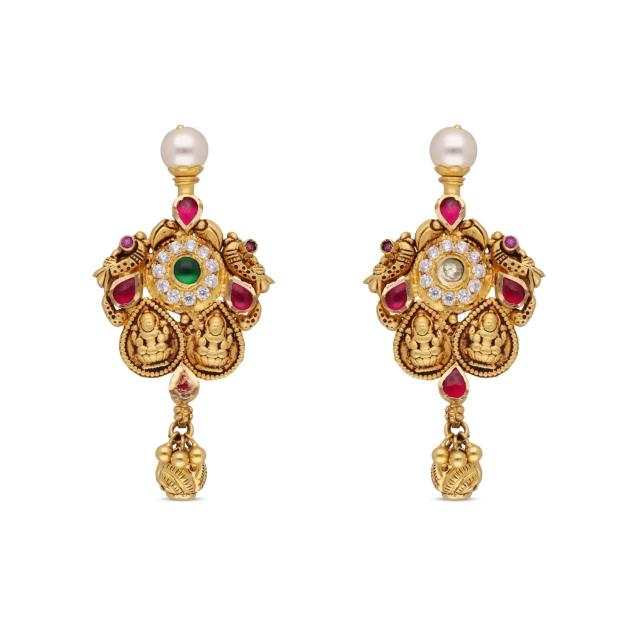missing gem: (174, 368, 194, 398), (440, 259, 463, 281)
